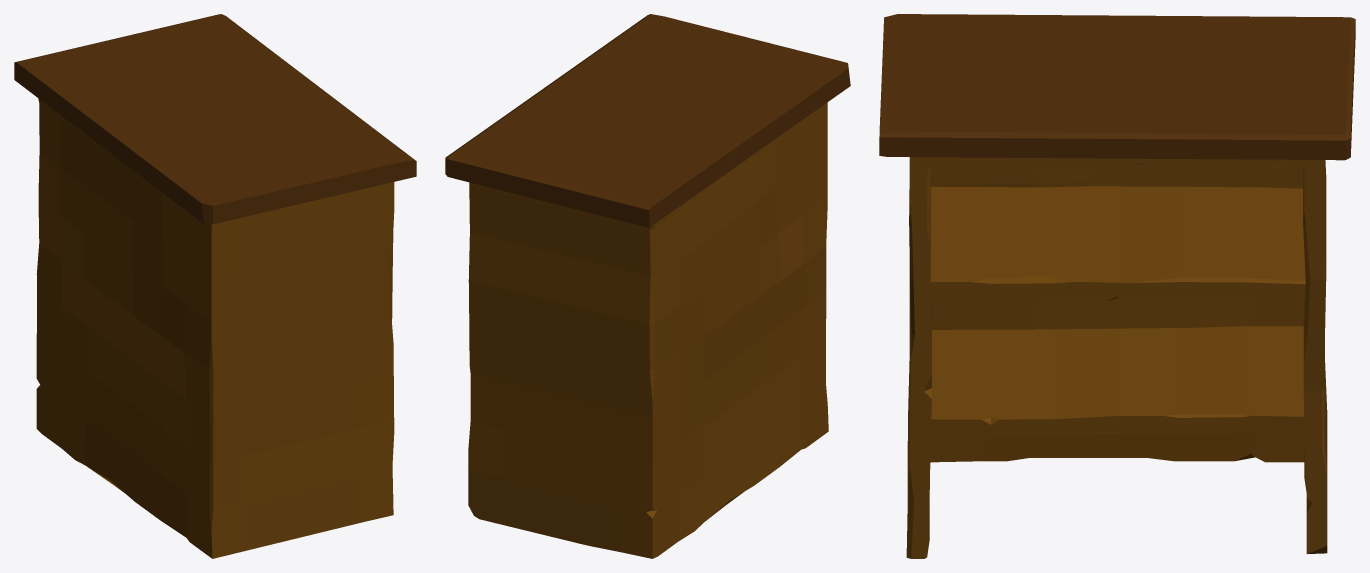
File: BPW_SKabinet.fbx
The picture shows the model from 3 angles, left to right: view 1: azimuth 30°, elevation 25°; view 2: azimuth 150°, elevation 25°; view 3: azimuth 270°, elevation 25°; orthographic projection. The views are drawn at different scales.
Visible parts, largest first — view 1: Cube.001, Cube; view 2: Cube.001, Cube; view 3: Cube, Cube.001, Cube.002, Cube.003.
Boxes of the visible parts, bbox=[...] form: Cube.001: bbox=[36, 98, 394, 558]; Cube: bbox=[14, 14, 416, 224]; Cube.001: bbox=[468, 102, 828, 558]; Cube: bbox=[445, 14, 850, 227]; Cube: bbox=[879, 14, 1355, 160]; Cube.001: bbox=[906, 157, 1327, 558]; Cube.002: bbox=[930, 186, 1305, 301]; Cube.003: bbox=[930, 326, 1304, 437].
Bounding box in the file's own units: 385 × 626 × 627.
